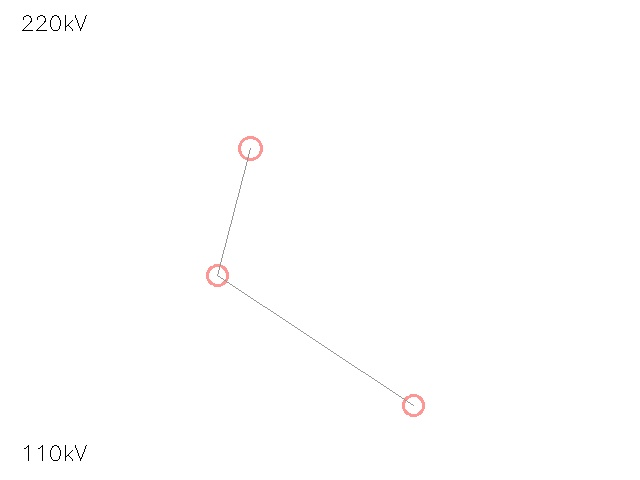load_break_switch: (228, 126, 272, 170), (197, 255, 237, 295)
reactor: (392, 384, 434, 426)
